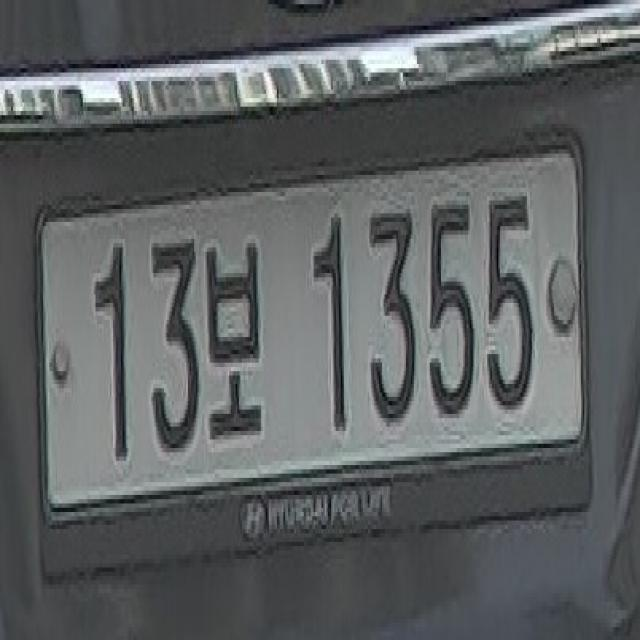1: (307, 192, 358, 448), (92, 230, 140, 478)
3: (363, 179, 419, 435), (148, 213, 202, 474)
5: (423, 183, 478, 431), (482, 180, 538, 422)
bo: (202, 218, 271, 460)
license_plate: (27, 107, 595, 593)
